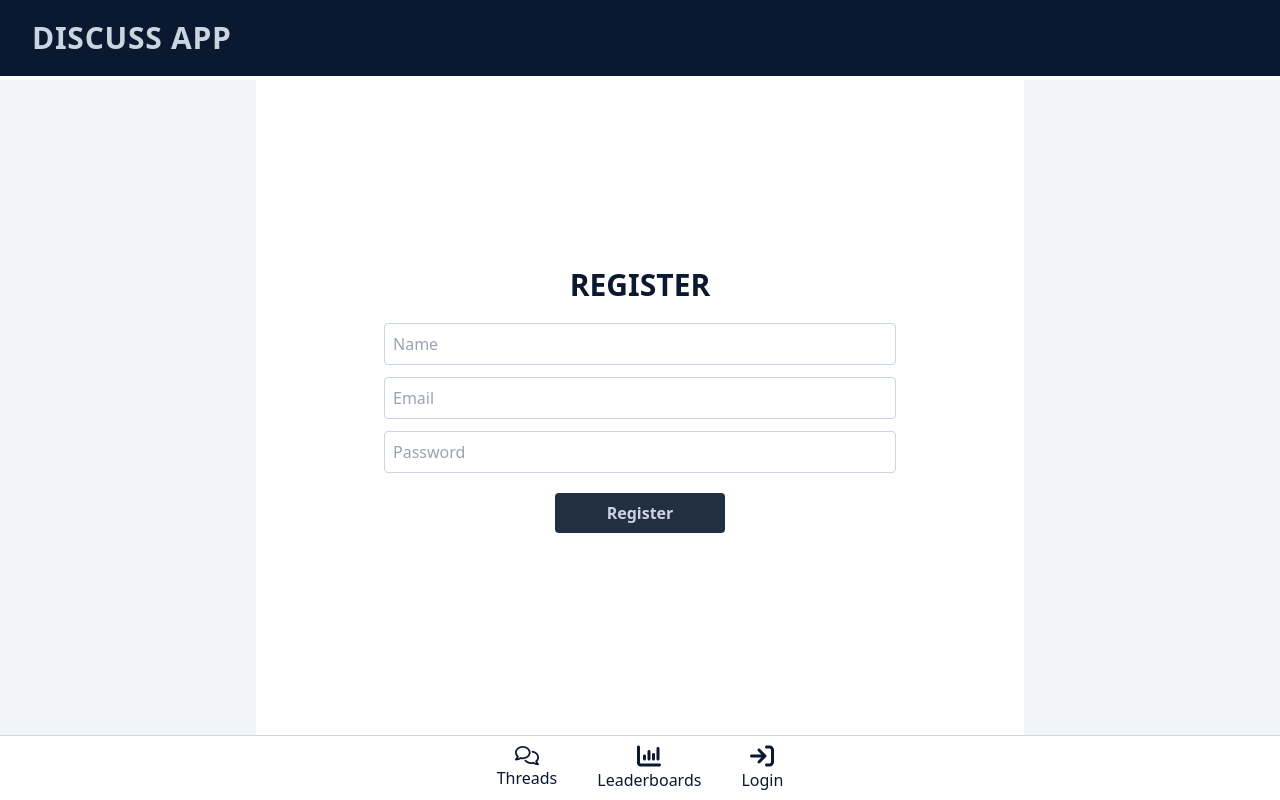
Test: Register spec › should display invalid elemen when input password no match with pattern
In the password field with placeholder "Password": point(640, 452) [384, 431, 896, 473], type "pass"
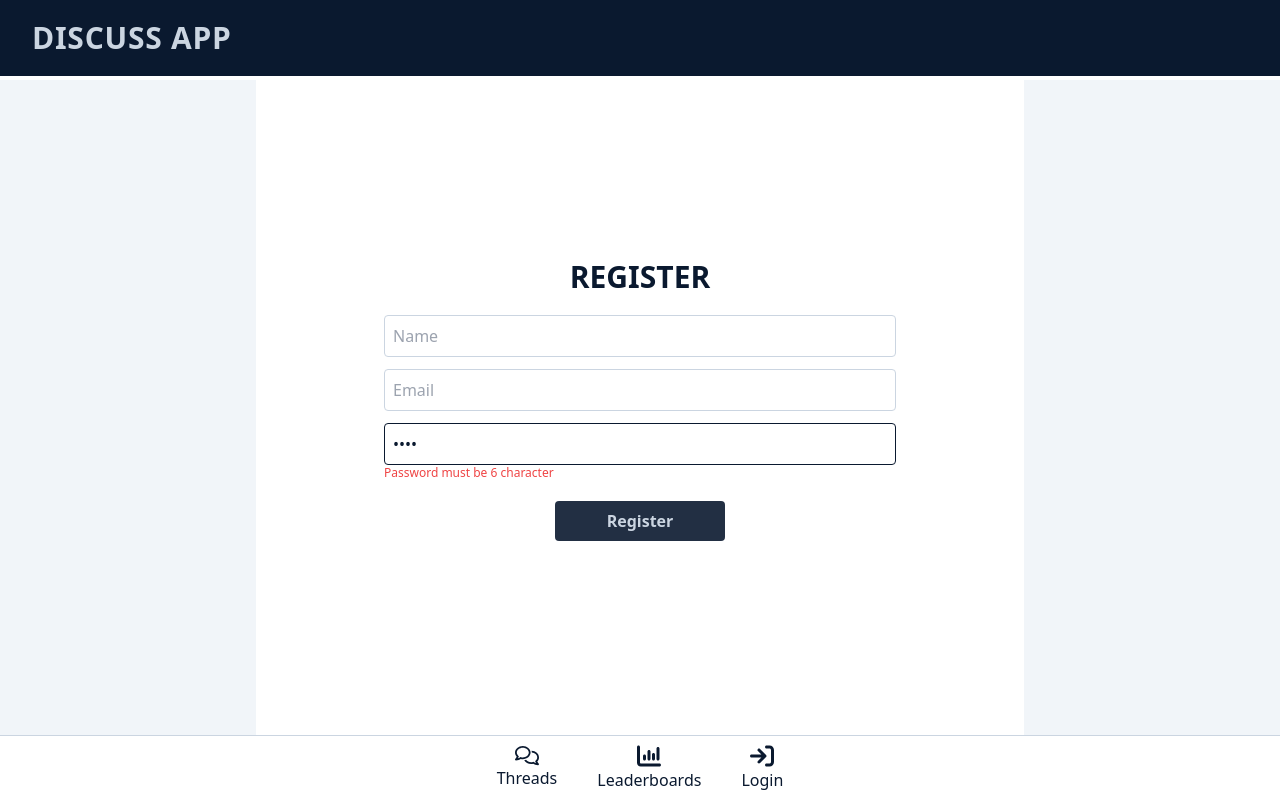
Expected: the text "Password must be 6 character" is shown, [384, 464, 554, 481]
